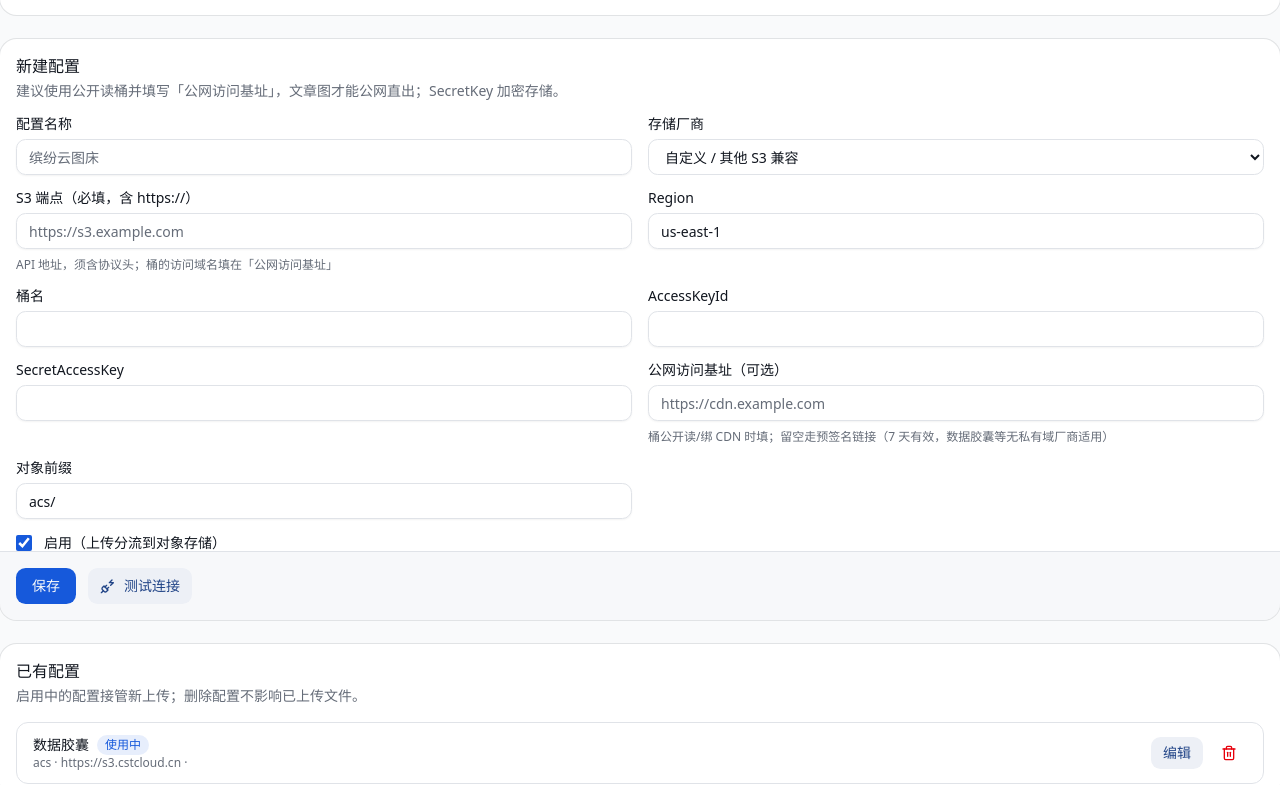
it: StorageManager SecretAccessKey 眼睛查看 › reveal API 失败显示错误且不回填明文
(page scrolled)
Expected: the text "数据胶囊" is shown, left=33, top=735, right=89, bottom=755
Click the button "编辑" at (1177, 753), box left=1151, top=737, right=1203, bottom=769
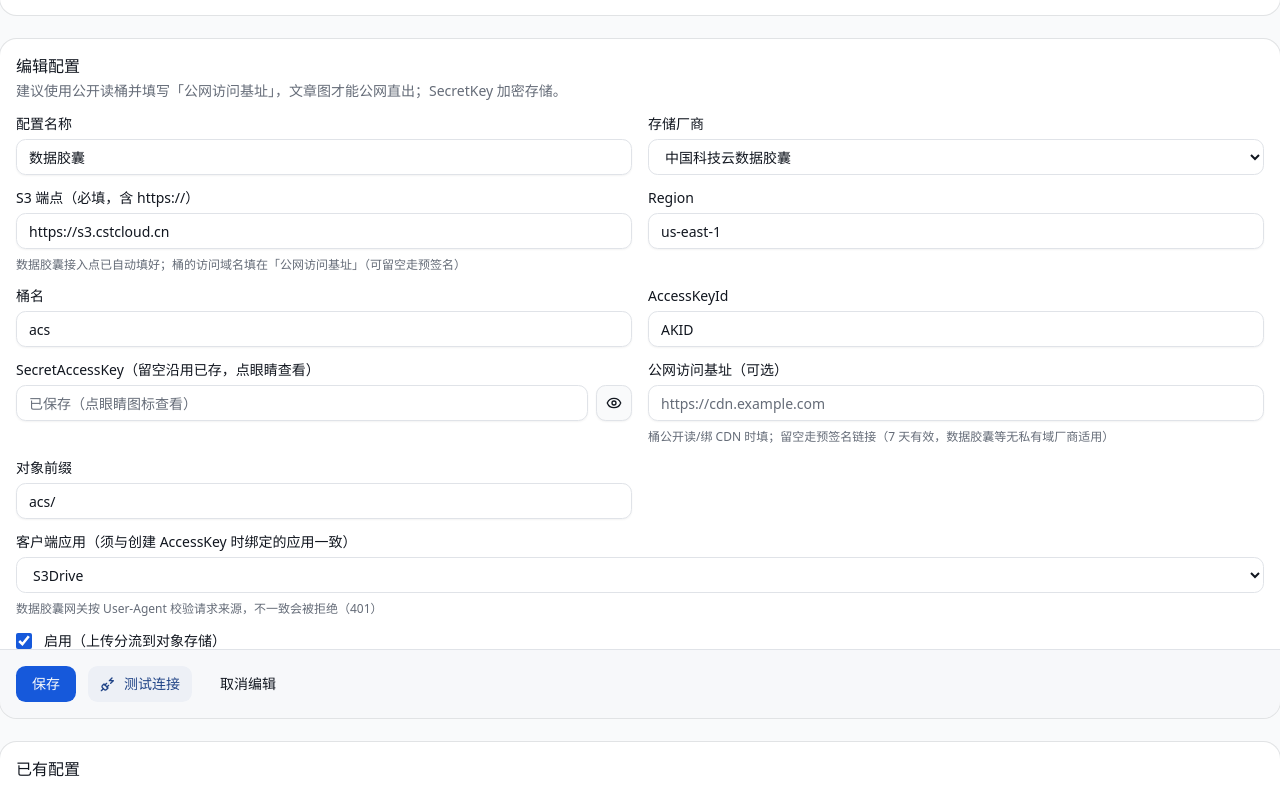
Click the button with test id "storage-reveal" at (614, 403), box left=596, top=385, right=632, bottom=421
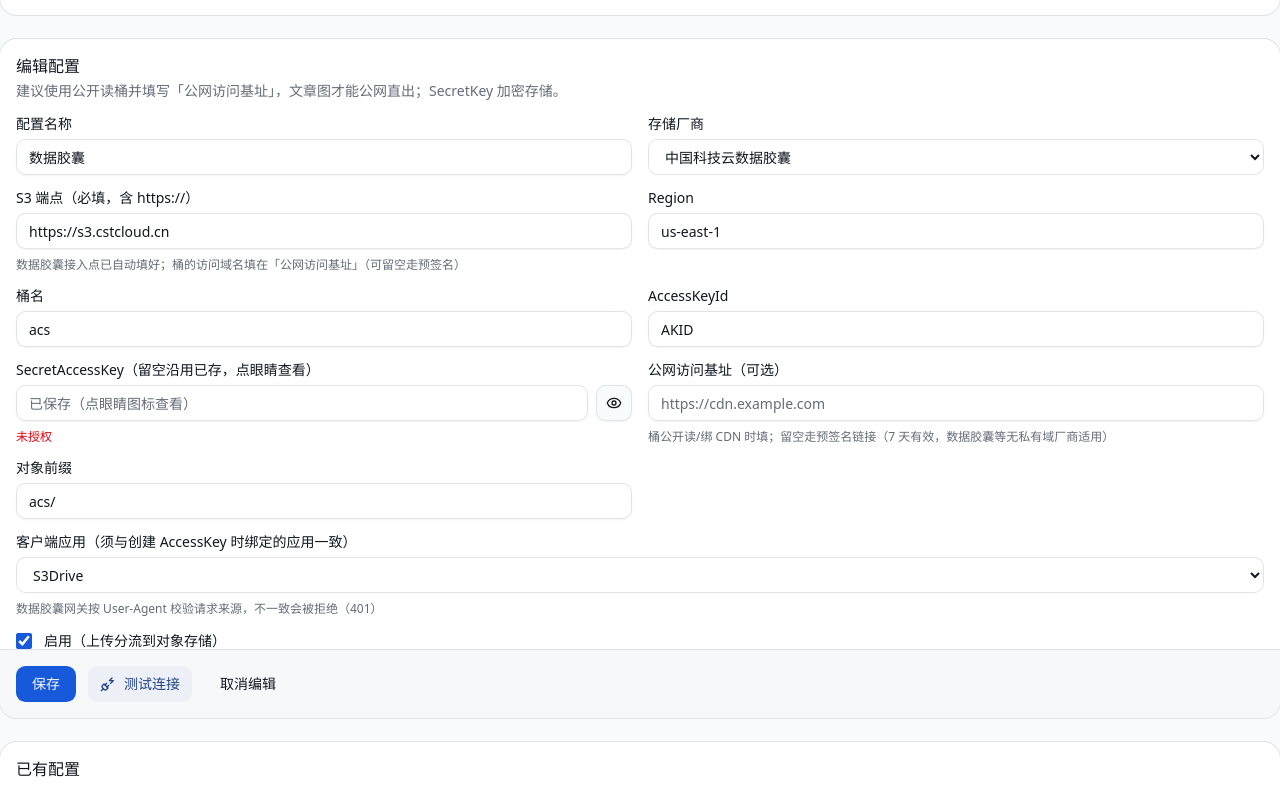
Expected: the password field labelled "SecretAccessKey（留空沿用已存，点眼睛查看）" is empty, left=16, top=385, right=588, bottom=421
Result: the message with test id "storage-reveal-error" reads "未授权" at left=16, top=428, right=52, bottom=445
